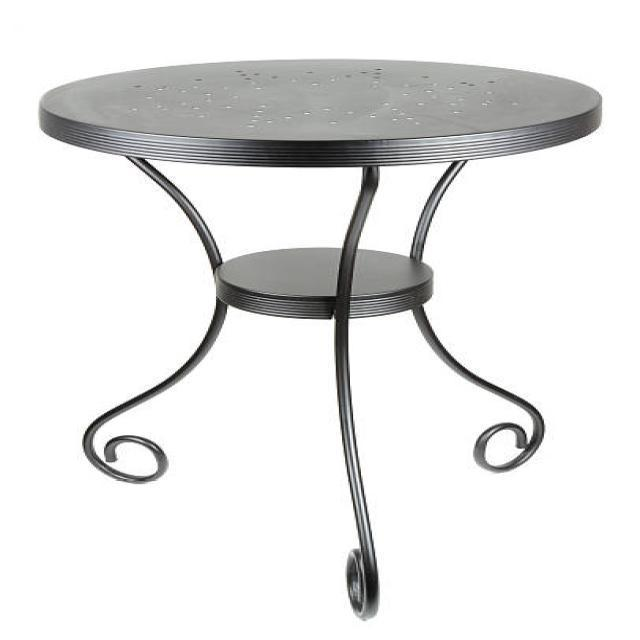table: (36, 56, 602, 620)
